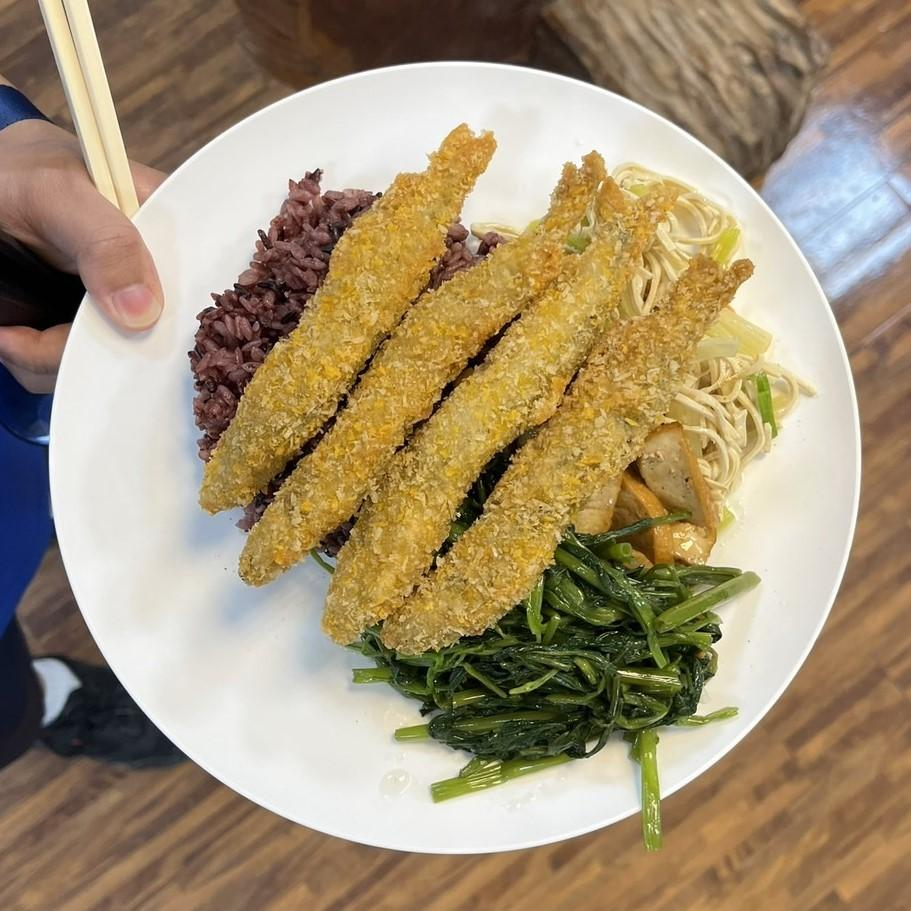big fried chicken leg: (32, 44, 863, 855)
braised fish: (174, 176, 518, 536)
braised fish fillet: (351, 532, 756, 795), (571, 143, 792, 546)
braised pork: (198, 124, 750, 653)
